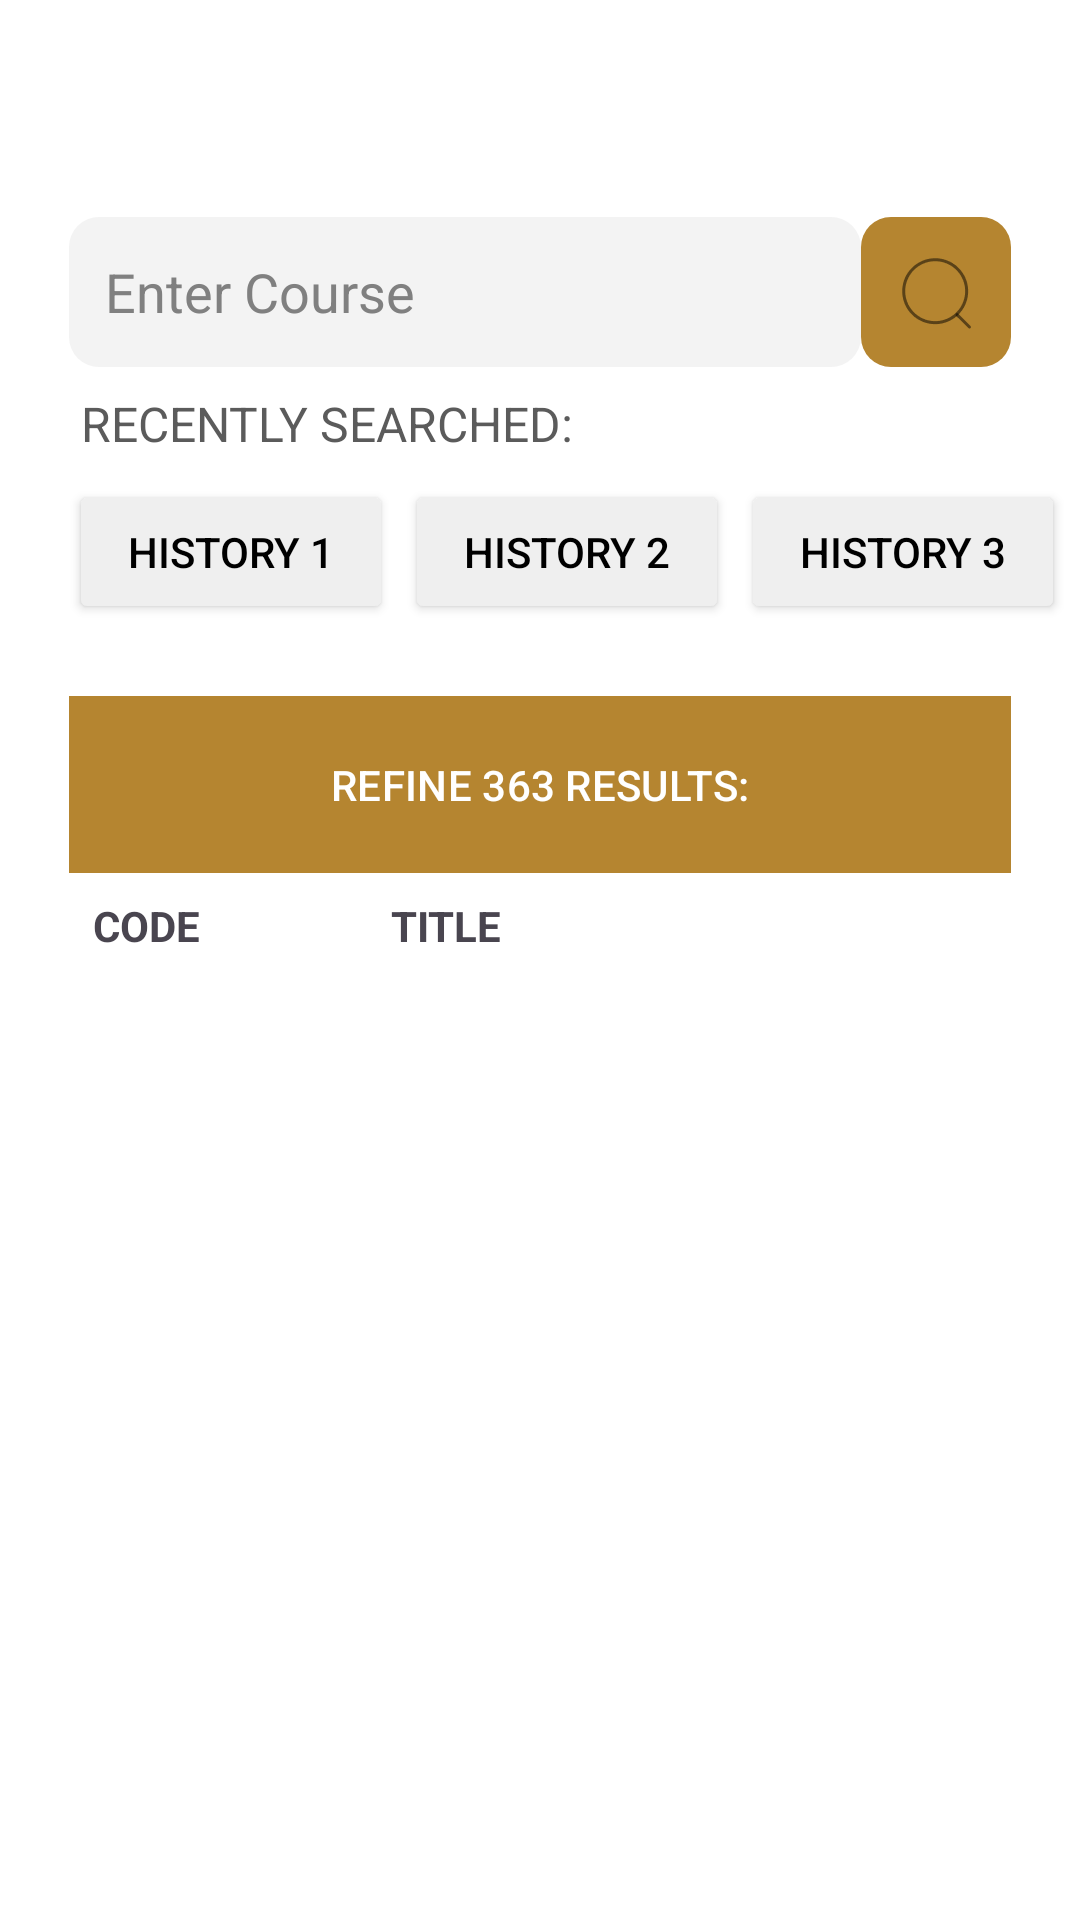

Icon bounding boxes for this 1080px×1920px phone screenshot, format box=[x1, y1, x2, y2]:
This is search button: box=[861, 217, 1011, 367]
